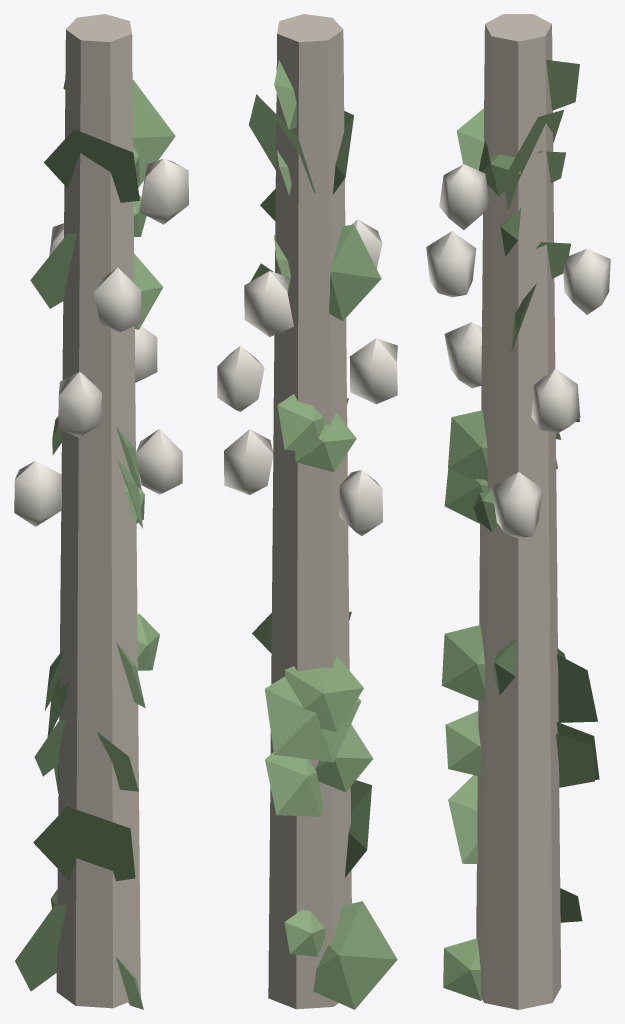
File: dense-temperate-forest-flora-honeysuckle-post-a428b673__28371.glb
The picture shows the model from 3 angles, left to right: view 1: azimuth 30°, elevation 25°; view 2: azimuth 150°, elevation 25°; view 3: azimuth 270°, elevation 25°; orthographic projection.
Visible parts, largest first — view 1: honeysuckle-post; view 2: honeysuckle-post; view 3: honeysuckle-post.
Boxes of the visible parts, left/top/right/bottom form: honeysuckle-post: left=14, top=14, right=188, bottom=1009; honeysuckle-post: left=217, top=14, right=397, bottom=1009; honeysuckle-post: left=426, top=14, right=610, bottom=1009.
Size of the model in its own units: 0.304 by 1.71 by 0.2948.
